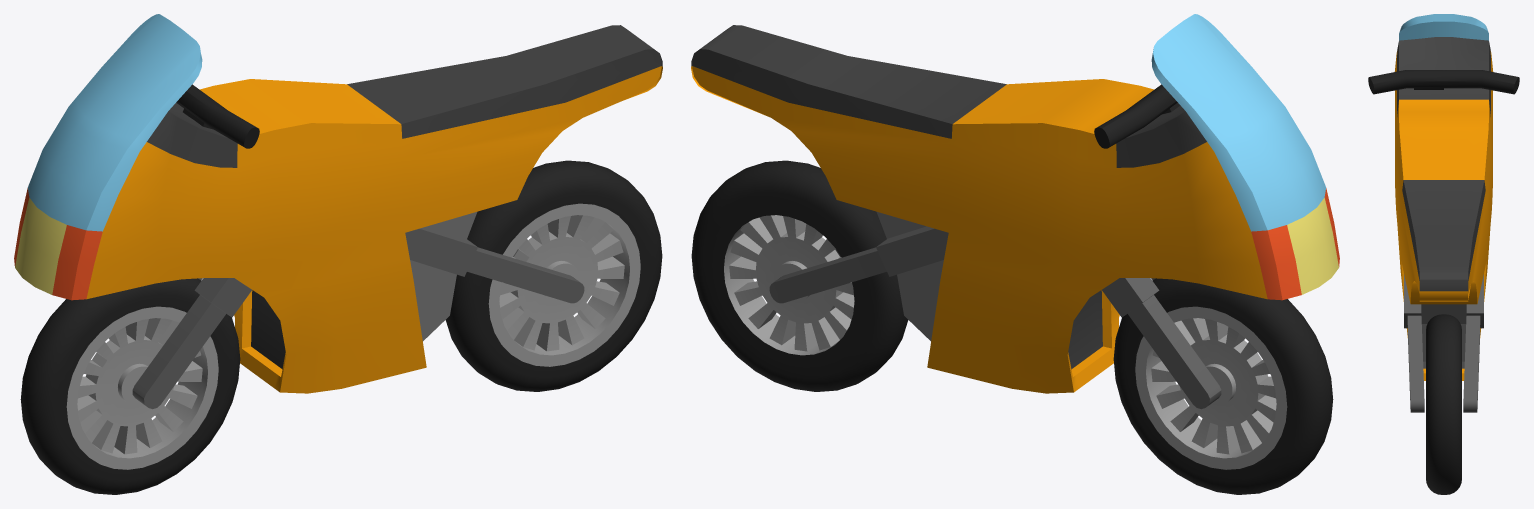
The model's file is motorcycle.fbx.
The picture shows the model from 3 angles, left to right: view 1: azimuth 30°, elevation 25°; view 2: azimuth 150°, elevation 25°; view 3: azimuth 270°, elevation 25°; orthographic projection. The views are drawn at different scales.
Parts seen in each view (by area): view 1: Cube.725; view 2: Cube.725; view 3: Cube.725.
Boxes of the visible parts, x1=… form: Cube.725: x1=14, y1=14, x2=662, y2=494; Cube.725: x1=691, y1=14, x2=1339, y2=494; Cube.725: x1=1368, y1=14, x2=1519, y2=494.
Bounding box in the file's own units: 235 × 161 × 65.51.
1 material, 1 textured.
